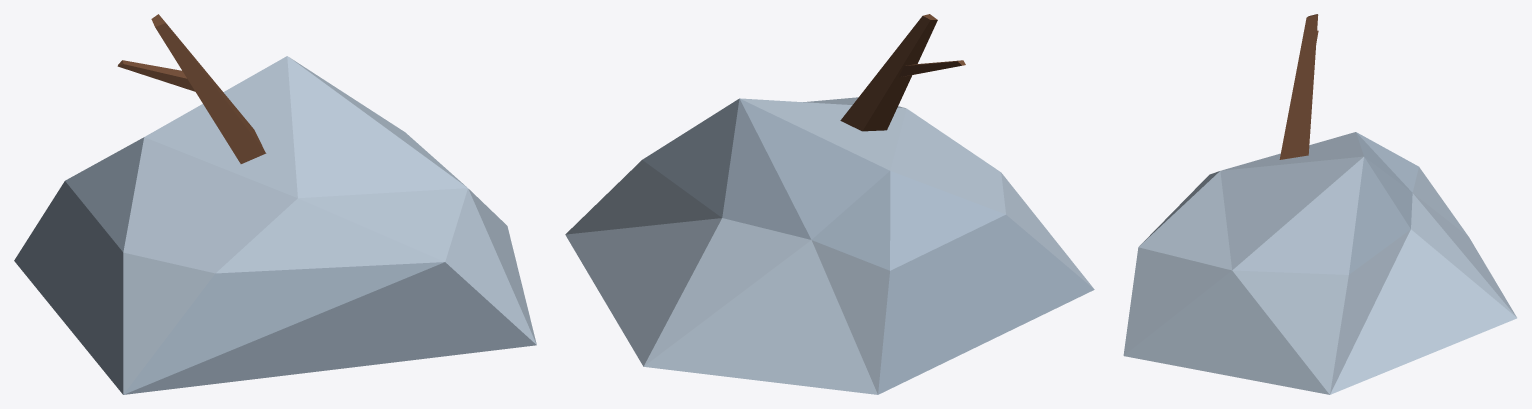
The model's file is Icemound3_Alt4.fbx.
3 renders of one model, left to right at view 1: azimuth 30°, elevation 25°; view 2: azimuth 150°, elevation 25°; view 3: azimuth 270°, elevation 25°, orthographic. The views are drawn at different scales.
Parts seen in each view (by area): view 1: Icemound3_Alt4; view 2: Icemound3_Alt4; view 3: Icemound3_Alt4.
Boxes of the visible parts, box(x1,y1,x2,y2) form: Icemound3_Alt4: box(14, 14, 536, 394); Icemound3_Alt4: box(565, 14, 1094, 394); Icemound3_Alt4: box(1123, 14, 1516, 394).
Bounding box in the file's own units: 0.8783 × 0.5532 × 0.8164.
